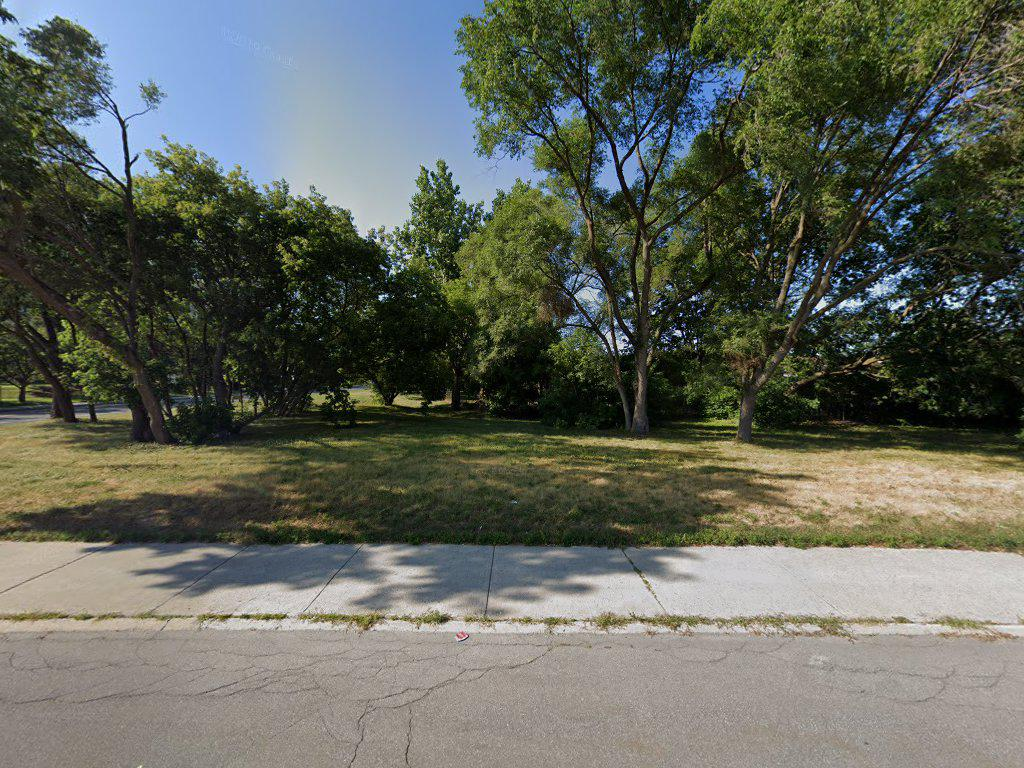trunk: (119, 347, 173, 450), (622, 352, 658, 442), (737, 356, 761, 450)
